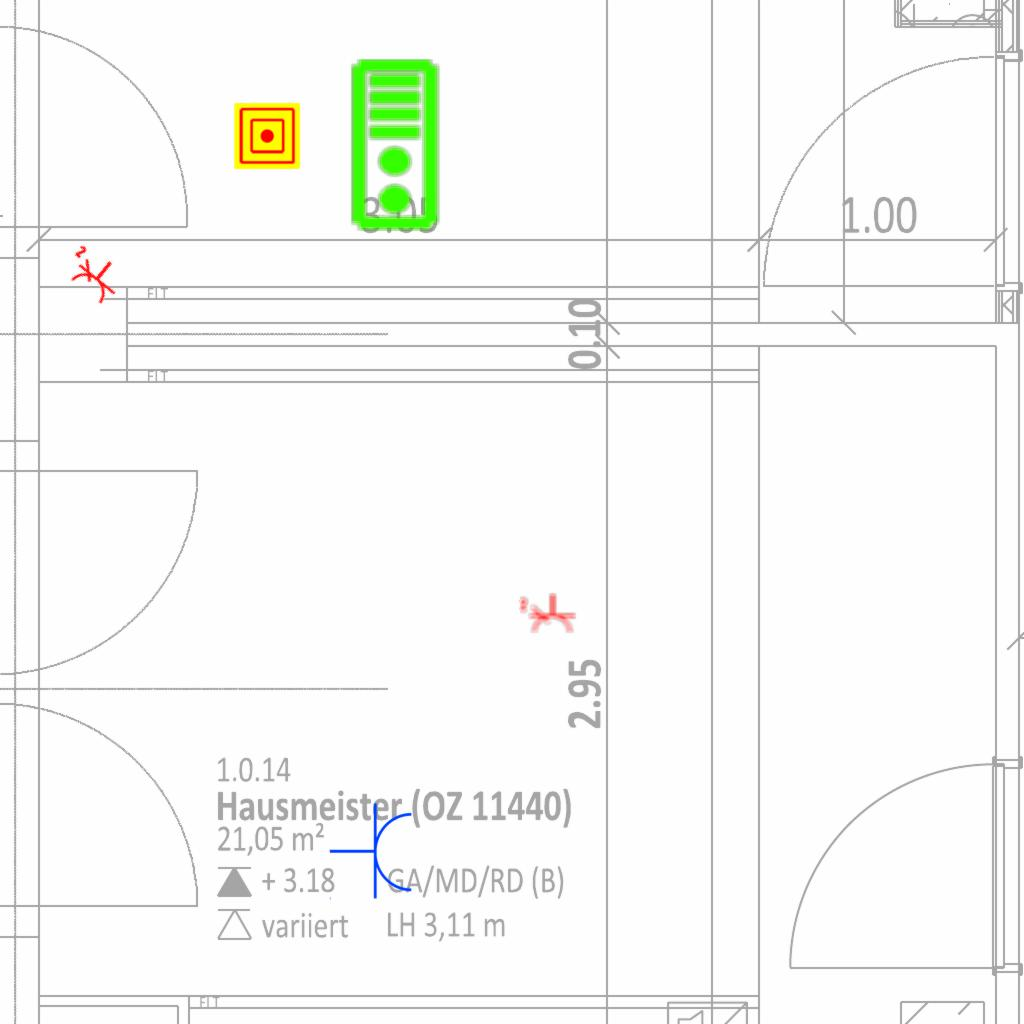Gegensprechanlage_mit_Video: (349, 57, 444, 233)
NAM-Nichtautomatischer_Melder: (234, 103, 300, 169)
Schukosteckdose_einfach: (329, 802, 416, 902)
Schukosteckdose_mehrfach: (57, 238, 133, 310), (518, 591, 578, 635)
